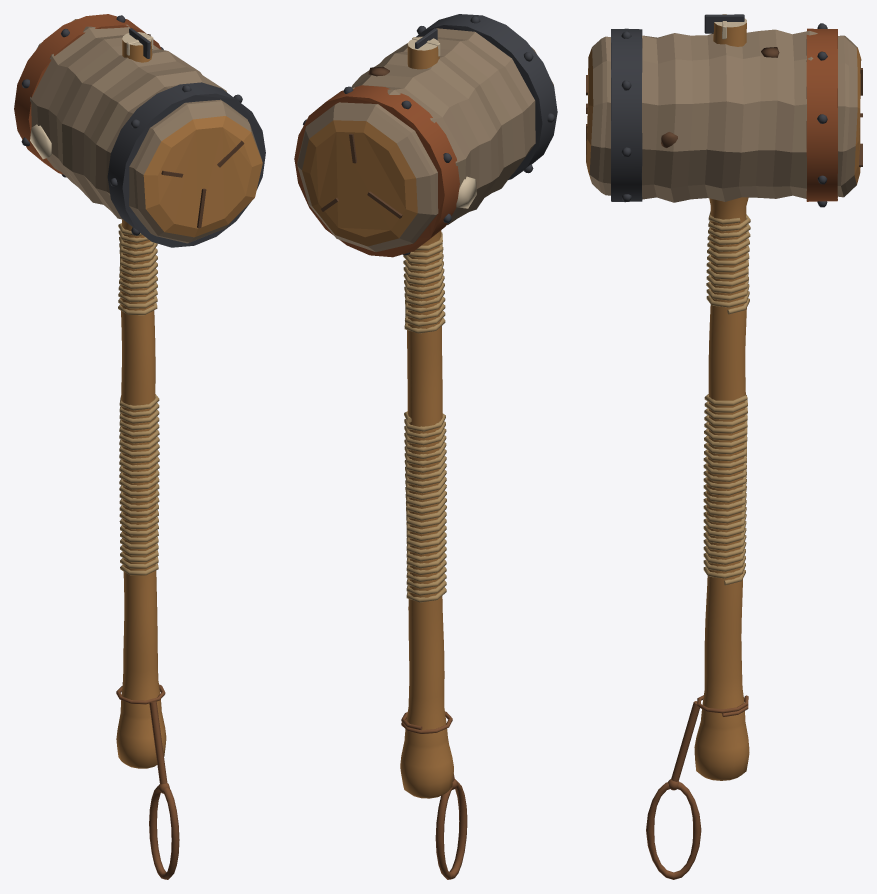
Rendered from tool_mallet.fbx.
3 renders of one model, left to right at view 1: azimuth 30°, elevation 25°; view 2: azimuth 150°, elevation 25°; view 3: azimuth 270°, elevation 25°, orthographic. The views are drawn at different scales.
Visible parts, largest first — view 1: Tool_Mallet_Head, Tool_Mallet_Handle, Tool_Mallet_Hoops, Tool_Mallet_Grip, Tool_Mallet_Lanyard, Tool_Mallet_Wear; view 2: Tool_Mallet_Head, Tool_Mallet_Handle, Tool_Mallet_Hoops, Tool_Mallet_Grip, Tool_Mallet_Lanyard, Tool_Mallet_Wear; view 3: Tool_Mallet_Head, Tool_Mallet_Handle, Tool_Mallet_Hoops, Tool_Mallet_Grip, Tool_Mallet_Lanyard, Tool_Mallet_Wear.
Part boxes in pixels (left/top/right/bottom): Tool_Mallet_Head: left=30, top=19, right=262, bottom=243; Tool_Mallet_Handle: left=116, top=32, right=166, bottom=768; Tool_Mallet_Hoops: left=14, top=14, right=265, bottom=247; Tool_Mallet_Grip: left=118, top=223, right=159, bottom=575; Tool_Mallet_Lanyard: left=116, top=682, right=179, bottom=879; Tool_Mallet_Wear: left=30, top=34, right=244, bottom=228; Tool_Mallet_Head: left=297, top=28, right=553, bottom=251; Tool_Mallet_Handle: left=400, top=37, right=453, bottom=798; Tool_Mallet_Hoops: left=294, top=14, right=557, bottom=257; Tool_Mallet_Grip: left=403, top=232, right=446, bottom=602; Tool_Mallet_Lanyard: left=401, top=711, right=467, bottom=879; Tool_Mallet_Wear: left=321, top=67, right=476, bottom=218; Tool_Mallet_Head: left=586, top=29, right=861, bottom=202; Tool_Mallet_Handle: left=694, top=18, right=749, bottom=780; Tool_Mallet_Hoops: left=611, top=14, right=837, bottom=207; Tool_Mallet_Grip: left=703, top=211, right=750, bottom=585; Tool_Mallet_Lanyard: left=646, top=695, right=748, bottom=879; Tool_Mallet_Wear: left=586, top=47, right=862, bottom=166.
Bounding box in the file's own units: 20.21 × 105 × 30.52.
